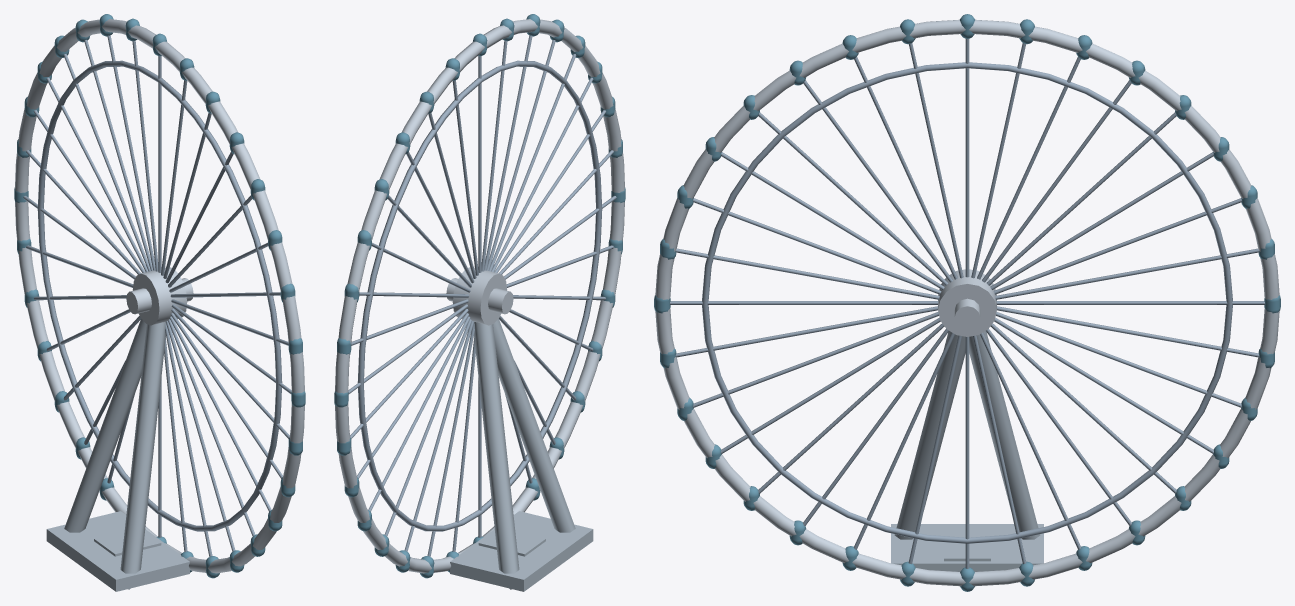
File: eye.glb
3 renders of one model, left to right at view 1: azimuth 30°, elevation 25°; view 2: azimuth 150°, elevation 25°; view 3: azimuth 270°, elevation 25°, orthographic. The views are drawn at different scales.
Visible parts, largest first — view 1: eyeWheel, eye; view 2: eyeWheel, eye; view 3: eyeWheel, eye.
Part boxes in pixels (bbox=[...]): eyeWheel: bbox=[14, 14, 305, 578]; eye: bbox=[46, 267, 193, 591]; eyeWheel: bbox=[334, 14, 625, 578]; eye: bbox=[446, 267, 593, 591]; eyeWheel: bbox=[654, 14, 1280, 591]; eye: bbox=[891, 269, 1043, 571].
Bounding box in the file's own units: 0.4132 × 1.94 × 1.92.
